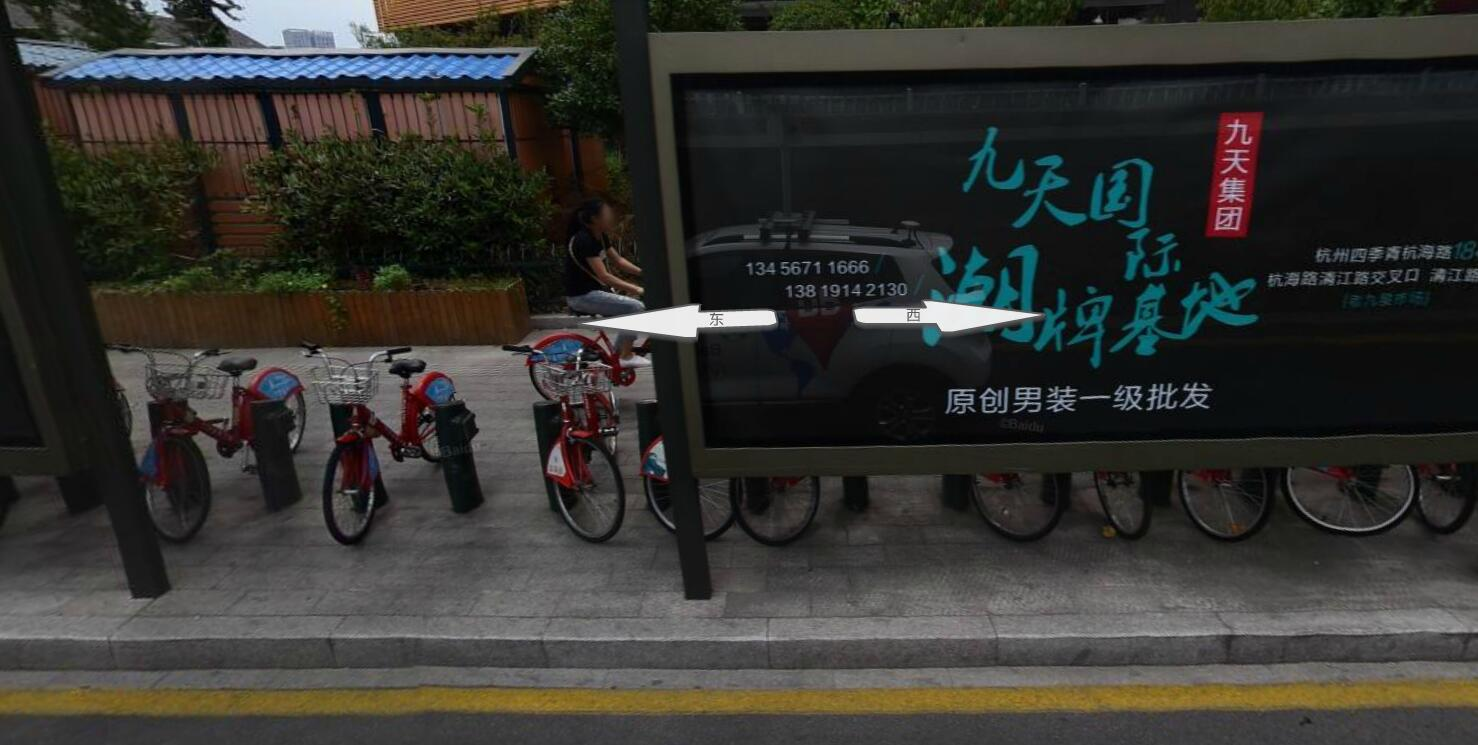side: (1224, 611, 1468, 666), (997, 614, 1234, 670), (769, 618, 999, 672), (110, 617, 335, 670), (332, 617, 548, 668), (547, 619, 770, 667)
